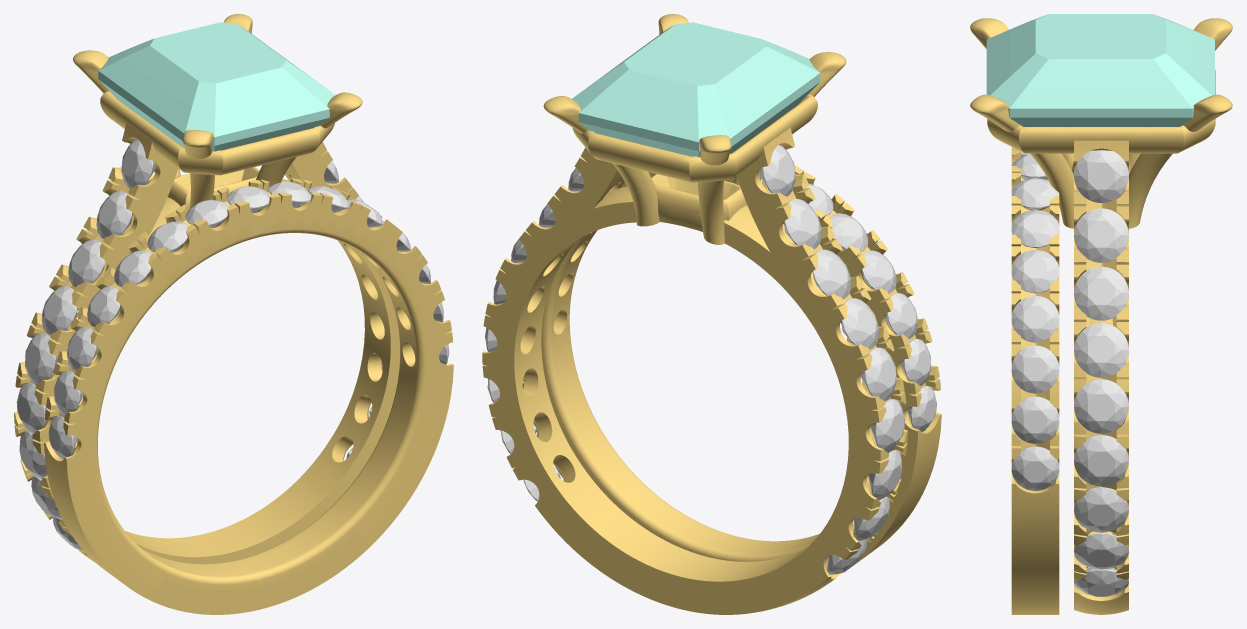
The model's file is StephanieBOTHyg2.glb.
3 renders of one model, left to right at view 1: azimuth 30°, elevation 25°; view 2: azimuth 150°, elevation 25°; view 3: azimuth 270°, elevation 25°, orthographic. The views are drawn at different scales.
Visible parts, largest first — view 1: Stephanie YG wb for 3d model, Stephanie YG eng for 3d model, Stephanie aquamarine eng for 3d model.001, Stephanie dia eng for 3d model.012, Stephanie dia eng for 3d model.011, Stephanie dia eng for 3d model.010, Stephanie dia eng for 3d model.013, Stephanie dia eng for 3d model.009, Stephanie dia eng for 3d model.014, Stephanie dia wb for 3d model.011, Stephanie dia wb for 3d model.010, Stephanie dia wb for 3d model.012 (+7 smaller); view 2: Stephanie YG eng for 3d model, Stephanie YG wb for 3d model, Stephanie aquamarine eng for 3d model.001, Stephanie dia eng for 3d model.012, Stephanie dia eng for 3d model.011, Stephanie dia eng for 3d model.010, Stephanie dia eng for 3d model.013, Stephanie dia eng for 3d model.009, Stephanie dia eng for 3d model.014, Stephanie dia wb for 3d model.011, Stephanie dia wb for 3d model.012, Stephanie dia wb for 3d model.010 (+4 smaller); view 3: Stephanie aquamarine eng for 3d model.001, Stephanie YG eng for 3d model, Stephanie YG wb for 3d model, Stephanie dia eng for 3d model.003, Stephanie dia eng for 3d model.004, Stephanie dia eng for 3d model.001, Stephanie dia eng for 3d model, Stephanie dia eng for 3d model.002, Stephanie dia eng for 3d model.005, Stephanie dia eng for 3d model.006, Stephanie dia wb for 3d model.002, Stephanie dia wb for 3d model.001 (+8 smaller).
Part boxes in pixels (bbox=[...]): Stephanie YG wb for 3d model: bbox=[44, 178, 453, 614]; Stephanie YG eng for 3d model: bbox=[14, 14, 399, 564]; Stephanie aquamarine eng for 3d model.001: bbox=[98, 22, 335, 151]; Stephanie dia eng for 3d model.012: bbox=[41, 286, 77, 334]; Stephanie dia eng for 3d model.011: bbox=[68, 239, 105, 286]; Stephanie dia eng for 3d model.010: bbox=[96, 191, 132, 238]; Stephanie dia eng for 3d model.013: bbox=[25, 333, 58, 384]; Stephanie dia eng for 3d model.009: bbox=[121, 139, 155, 188]; Stephanie dia eng for 3d model.014: bbox=[16, 382, 47, 433]; Stephanie dia wb for 3d model.011: bbox=[87, 286, 120, 327]; Stephanie dia wb for 3d model.010: bbox=[114, 250, 151, 287]; Stephanie dia wb for 3d model.012: bbox=[67, 326, 97, 370]; Stephanie YG eng for 3d model: bbox=[482, 14, 907, 614]; Stephanie YG wb for 3d model: bbox=[533, 165, 941, 566]; Stephanie aquamarine eng for 3d model.001: bbox=[572, 22, 820, 157]; Stephanie dia eng for 3d model.012: bbox=[841, 298, 878, 349]; Stephanie dia eng for 3d model.011: bbox=[812, 249, 851, 299]; Stephanie dia eng for 3d model.010: bbox=[784, 199, 821, 249]; Stephanie dia eng for 3d model.013: bbox=[860, 347, 896, 400]; Stephanie dia eng for 3d model.009: bbox=[759, 145, 795, 196]; Stephanie dia eng for 3d model.014: bbox=[870, 399, 904, 452]; Stephanie dia wb for 3d model.011: bbox=[862, 250, 896, 293]; Stephanie dia wb for 3d model.012: bbox=[886, 293, 917, 338]; Stephanie dia wb for 3d model.010: bbox=[830, 213, 868, 251]; Stephanie aquamarine eng for 3d model.001: bbox=[986, 14, 1214, 126]; Stephanie YG eng for 3d model: bbox=[970, 18, 1232, 614]; Stephanie YG wb for 3d model: bbox=[1011, 147, 1059, 614]; Stephanie dia eng for 3d model.003: bbox=[1074, 323, 1128, 377]; Stephanie dia eng for 3d model.004: bbox=[1074, 379, 1128, 433]; Stephanie dia eng for 3d model.001: bbox=[1074, 208, 1128, 262]; Stephanie dia eng for 3d model: bbox=[1074, 150, 1128, 202]; Stephanie dia eng for 3d model.002: bbox=[1074, 266, 1128, 320]; Stephanie dia eng for 3d model.005: bbox=[1074, 435, 1128, 486]; Stephanie dia eng for 3d model.006: bbox=[1074, 487, 1128, 532]; Stephanie dia wb for 3d model.002: bbox=[1011, 345, 1059, 393]; Stephanie dia wb for 3d model.001: bbox=[1011, 396, 1059, 443].
Size of the model in its own units: 20.81 by 26.87 by 11.49.
